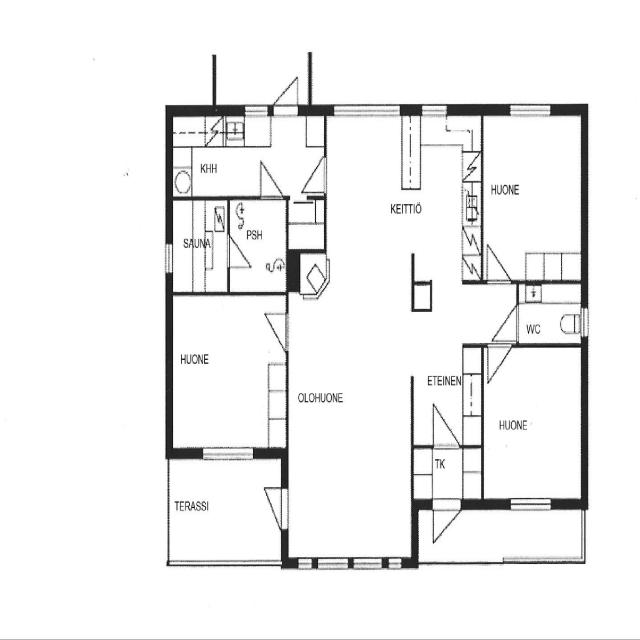door: (212, 147, 304, 200), (262, 480, 291, 533), (272, 71, 303, 116), (431, 406, 461, 451), (483, 242, 512, 286), (430, 501, 461, 542), (305, 155, 329, 198), (258, 160, 282, 200)
window: (329, 99, 404, 125), (198, 440, 259, 471), (506, 492, 556, 517), (505, 99, 554, 124), (314, 553, 351, 576), (418, 100, 450, 119), (242, 101, 272, 121), (293, 554, 320, 574), (163, 239, 175, 280), (384, 554, 405, 573), (580, 303, 590, 340)
zone: (168, 294, 289, 456), (482, 113, 583, 282), (482, 344, 584, 504), (170, 116, 322, 200), (416, 112, 482, 292), (228, 197, 288, 293), (170, 198, 228, 296), (516, 282, 586, 346), (287, 198, 327, 249)
